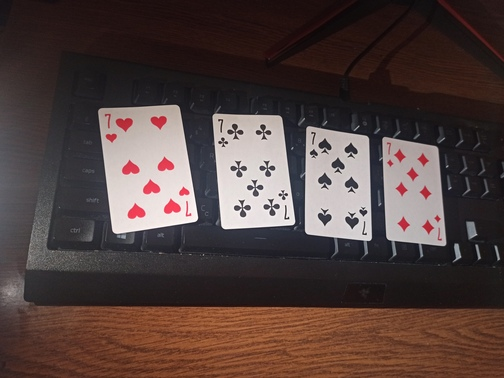sevenclubs: (209, 112, 296, 231)
sevendiamonds: (382, 135, 445, 246)
sevenhearts: (95, 102, 201, 234)
sevenspades: (302, 123, 376, 242)
